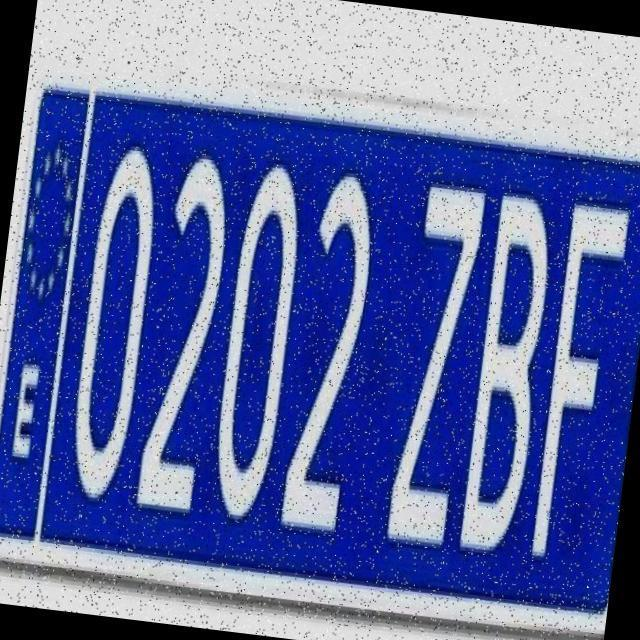License Plate: (0, 67, 640, 628)
